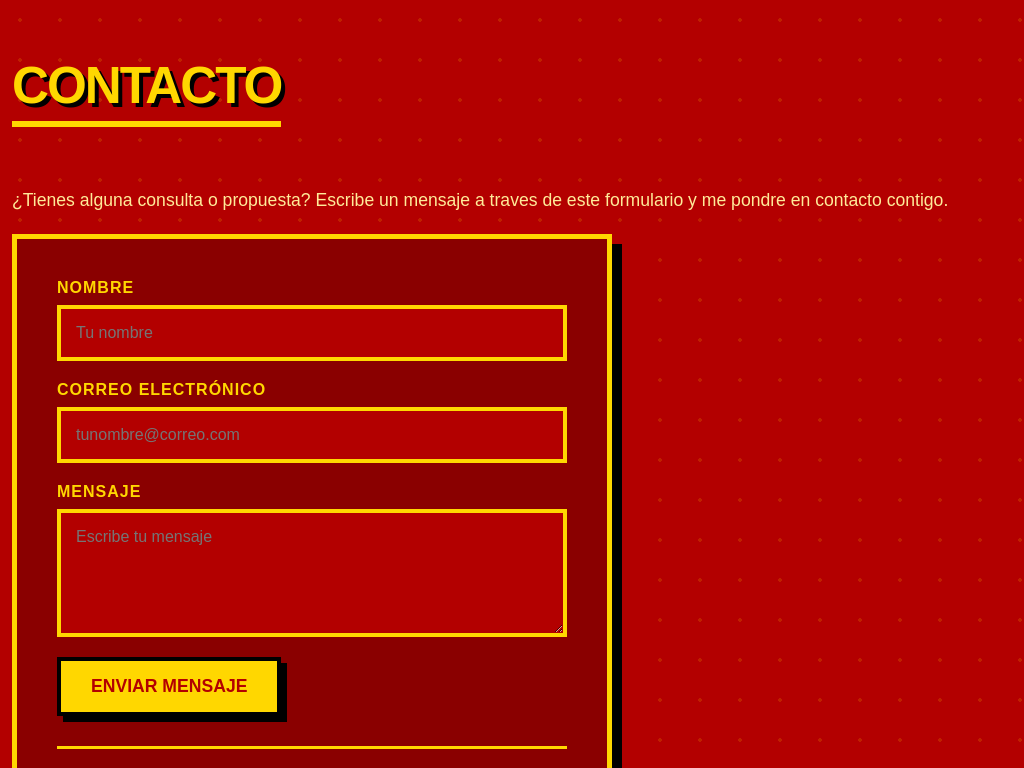
Scenario: Componente Contacto › debe mostrar un error si faltan campos obligatorios
Type "Diego Valle" into the field labelled "Nombre". click: (312, 333)
box: [57, 305, 567, 361]
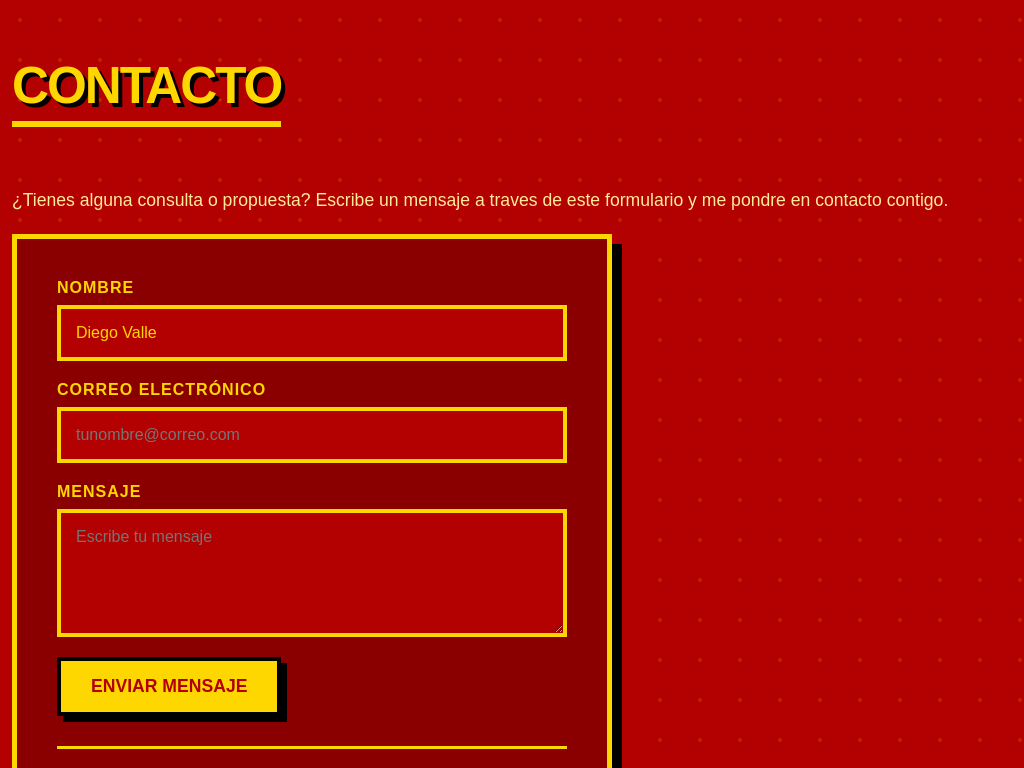
Click the button "Enviar mensaje". click: (169, 686)
box: [57, 657, 281, 716]
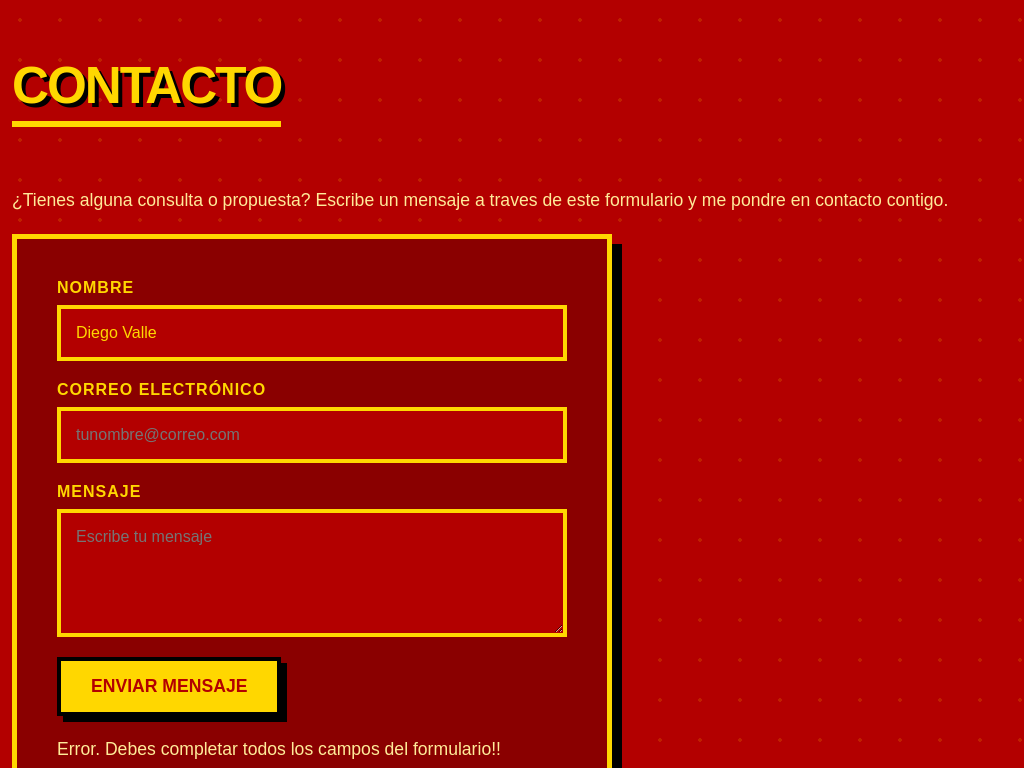
expect the message reads "Error. Debes completar todos los campos del formulario!!": met, box [57, 739, 501, 759]
